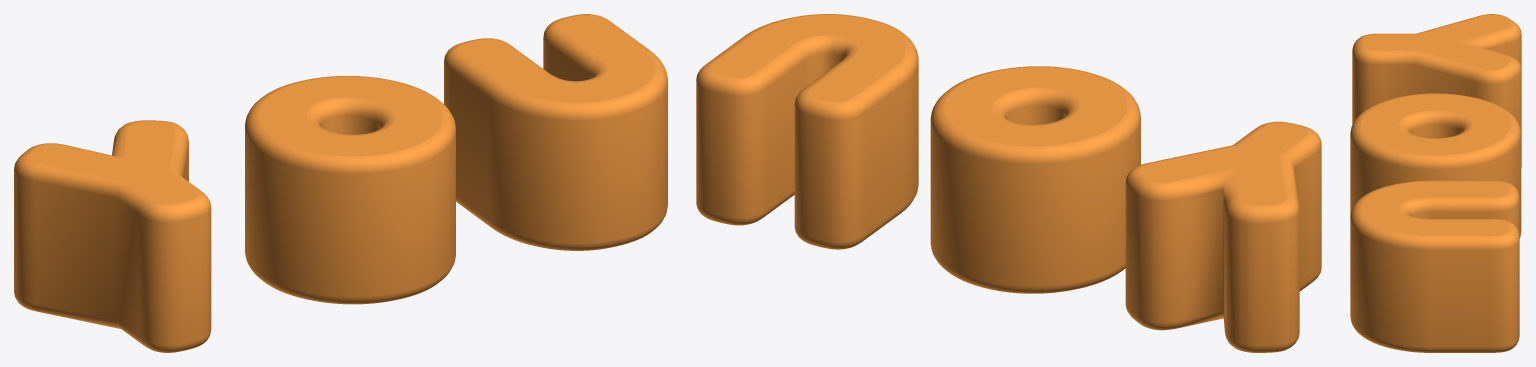
The model's file is YOU.fbx.
3 renders of one model, left to right at view 1: azimuth 30°, elevation 25°; view 2: azimuth 150°, elevation 25°; view 3: azimuth 270°, elevation 25°, orthographic. The views are drawn at different scales.
Parts seen in each view (by area): view 1: Text.005; view 2: Text.005; view 3: Text.005.
Part boxes in pixels (x1,y1,x2,y2): Text.005: (14, 14, 667, 352); Text.005: (696, 14, 1321, 352); Text.005: (1350, 14, 1521, 352).
Bounding box in the file's own units: 153 × 36 × 48.12.
